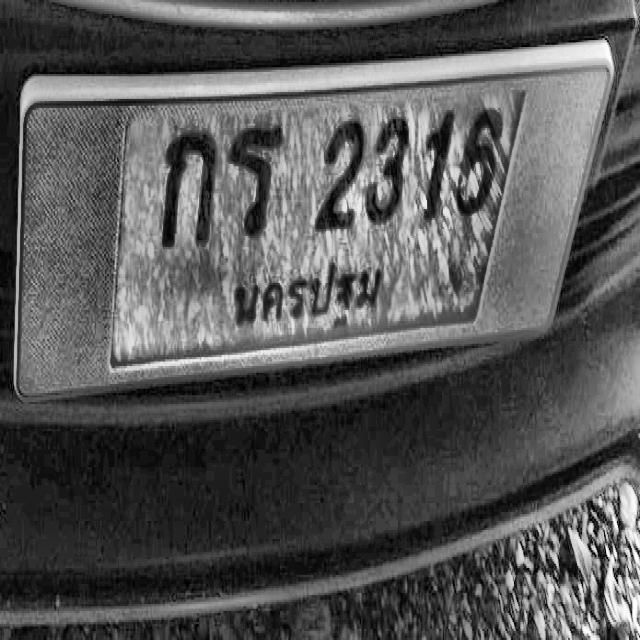license-plate: (9, 26, 621, 418)
